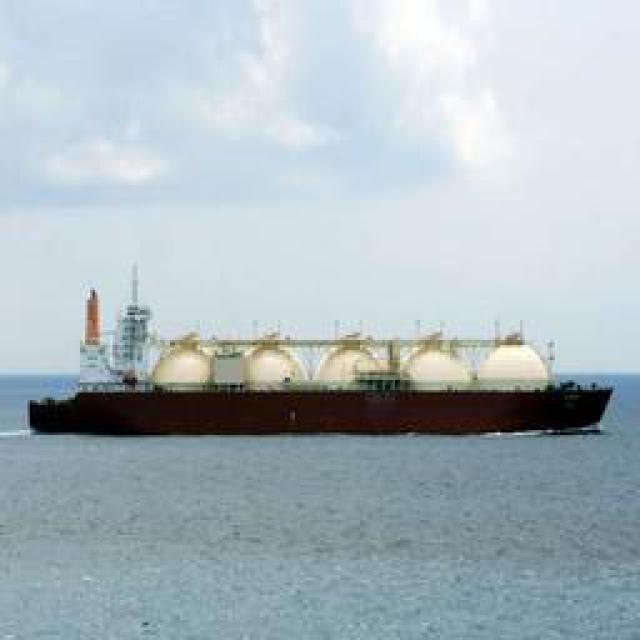Ship: (21, 369, 611, 439)
